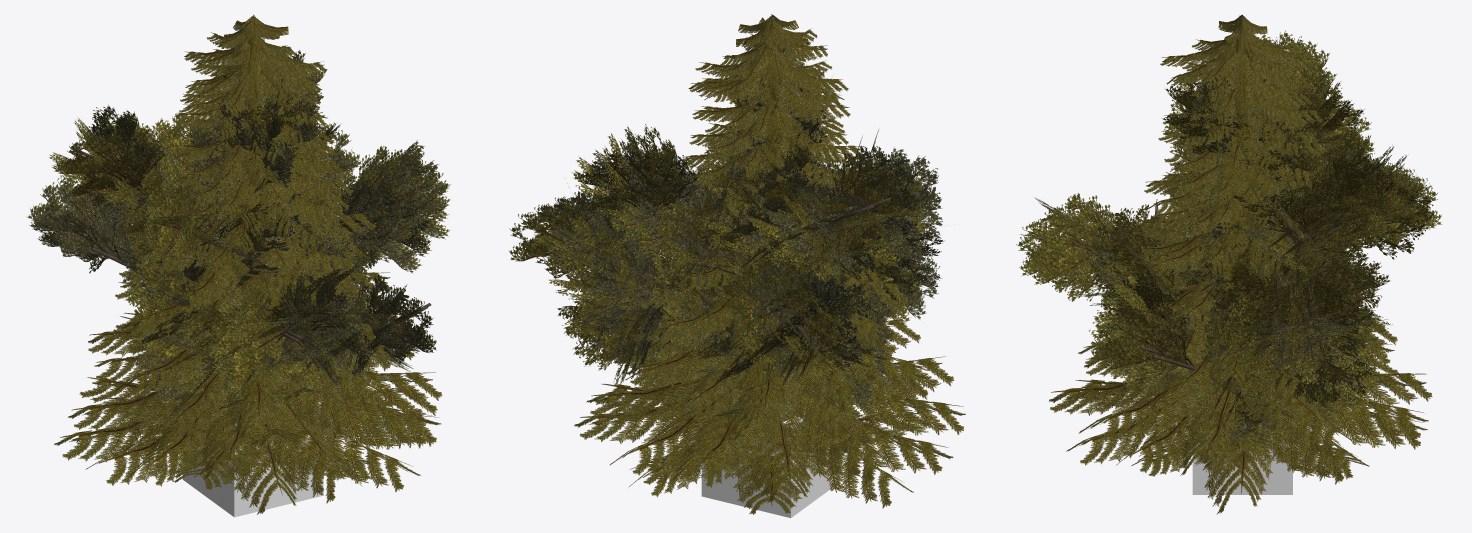
Rendered from props2.glb.
3 views of the same model, side by side, from view 1: azimuth 30°, elevation 25°; view 2: azimuth 150°, elevation 25°; view 3: azimuth 270°, elevation 25° (orthographic). The views are drawn at different scales.
Parts seen in each view (by area): view 1: G_Pine-tree-bright_alt, G_Bushy-tree-dark-straight, G_Bushy-tree-bright-straight, G_Bushy-tree-bright, G_Pine-tree-dark_alt, G_Pine-tree-bright, G_box-1, G_Pine-tree-dark, G_Bushy-tree-dark; view 2: G_Pine-tree-bright_alt, G_Bushy-tree-bright, G_Bushy-tree-dark-straight, G_Pine-tree-dark_alt, G_Bushy-tree-bright-straight, G_Pine-tree-bright, G_box-1, G_Pine-tree-dark, G_Bushy-tree-dark; view 3: G_Pine-tree-bright_alt, G_Bushy-tree-bright, G_Bushy-tree-bright-straight, G_Pine-tree-dark_alt, G_Bushy-tree-dark-straight, G_Pine-tree-bright, G_box-1, G_Bushy-tree-dark, G_Pine-tree-dark.
Part boxes in pixels (<box>): G_Pine-tree-bright_alt: <box>54,14,442,514</box>; G_Bushy-tree-dark-straight: <box>27,52,447,414</box>; G_Bushy-tree-bright-straight: <box>28,55,445,408</box>; G_Bushy-tree-bright: <box>30,46,450,409</box>; G_Pine-tree-dark_alt: <box>58,20,441,514</box>; G_Pine-tree-bright: <box>108,47,394,489</box>; G_box-1: <box>182,375,323,517</box>; G_Pine-tree-dark: <box>105,45,393,489</box>; G_Bushy-tree-dark: <box>34,97,446,392</box>; G_Pine-tree-bright_alt: <box>574,14,965,508</box>; G_Bushy-tree-bright: <box>509,90,927,417</box>; G_Bushy-tree-dark-straight: <box>528,61,943,410</box>; G_Pine-tree-dark_alt: <box>575,15,965,507</box>; G_Bushy-tree-bright-straight: <box>533,78,941,409</box>; G_Pine-tree-bright: <box>630,47,928,514</box>; G_box-1: <box>701,375,842,517</box>; G_Pine-tree-dark: <box>645,48,926,513</box>; G_Bushy-tree-dark: <box>511,136,923,415</box>; G_Pine-tree-bright_alt: <box>1049,14,1432,513</box>; G_Bushy-tree-bright: <box>1029,39,1441,451</box>; G_Bushy-tree-bright-straight: <box>1016,31,1427,441</box>; G_Pine-tree-dark_alt: <box>1050,15,1431,513</box>; G_Bushy-tree-dark-straight: <box>1016,33,1419,442</box>; G_Pine-tree-bright: <box>1114,65,1378,478</box>; G_box-1: <box>1192,362,1292,494</box>; G_Bushy-tree-dark: <box>1029,41,1437,446</box>; G_Pine-tree-dark: <box>1132,67,1377,478</box>.
Size of the model in its own units: 2.36 by 2.58 by 2.26.
7 materials, 6 textured.
